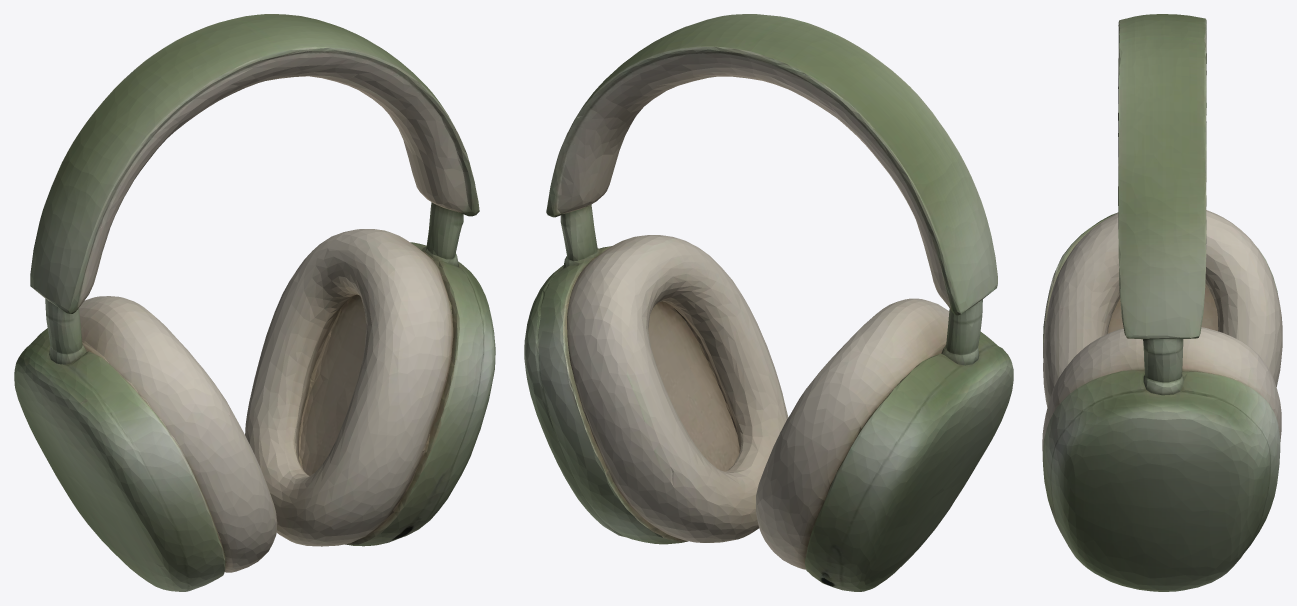
The model's file is headphones.glb.
3 views of the same model, side by side, from view 1: azimuth 30°, elevation 25°; view 2: azimuth 150°, elevation 25°; view 3: azimuth 270°, elevation 25° (orthographic). The views are drawn at different scales.
Visible parts, largest first — view 1: geometry_0; view 2: geometry_0; view 3: geometry_0.
Boxes of the visible parts, x1,y1,x2,y2 form: geometry_0: [14, 14, 495, 591]; geometry_0: [524, 14, 1013, 591]; geometry_0: [1042, 14, 1282, 591].
Bounding box in the file's own units: 0.8525 × 0.9983 × 0.4337.
Materials: 1 (1 with a texture image).
